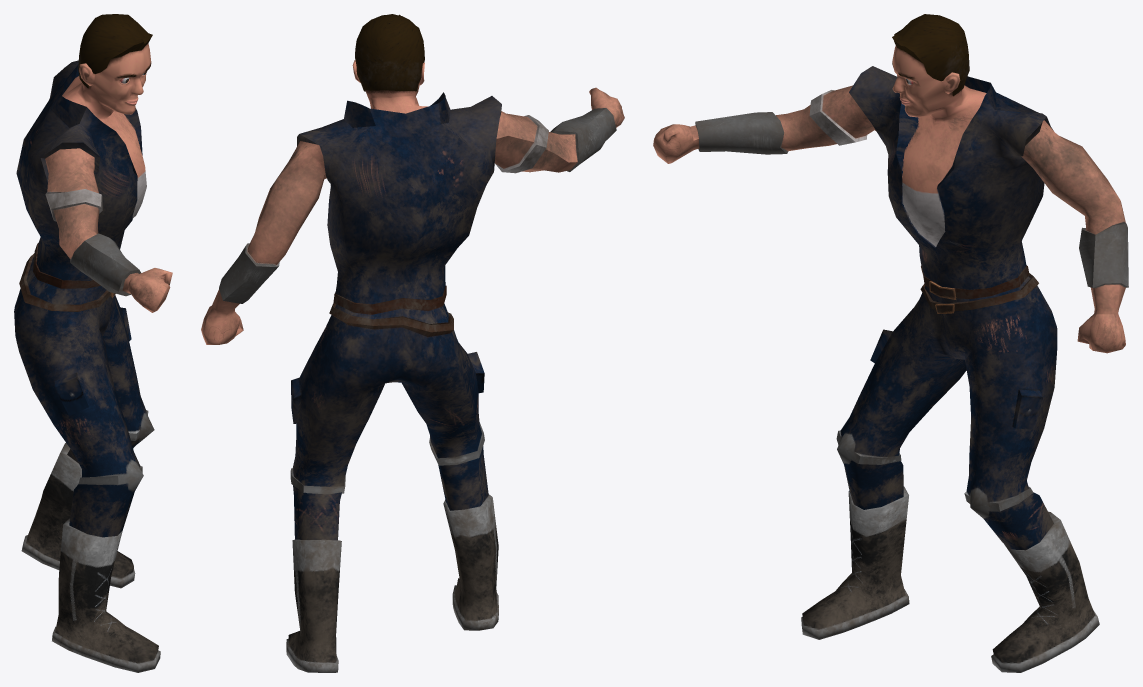
Rendered from Anim_abrir_puerta_ok_jugador.0029.obj.
The picture shows the model from 3 angles, left to right: view 1: azimuth 30°, elevation 25°; view 2: azimuth 150°, elevation 25°; view 3: azimuth 270°, elevation 25°; orthographic projection. The views are drawn at different scales.
Visible parts, largest first — view 1: polySurface1; view 2: polySurface1; view 3: polySurface1.
Part boxes in pixels (<box>): polySurface1: <box>14,14,172,672</box>; polySurface1: <box>201,14,624,672</box>; polySurface1: <box>653,14,1128,672</box>.
Bounding box in the file's own units: 3.41 × 9.27 × 6.36.
